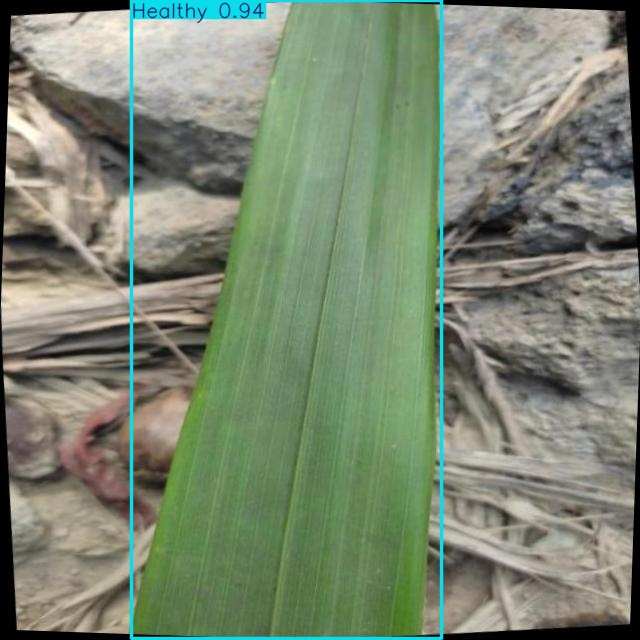Healthy: (131, 0, 441, 639)
